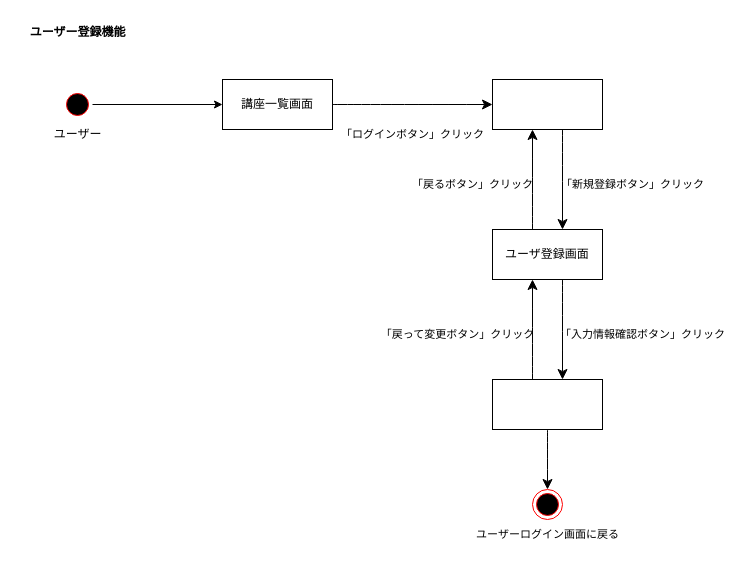
Image size: 749x566. Some labels were removed from this diagram. Here are the shapes that lost their labels. From the top down, the centre of each, then its label:
the point at 547,104: ユーザログイン画面
the point at 547,404: ユーザ登録情報確認画面
